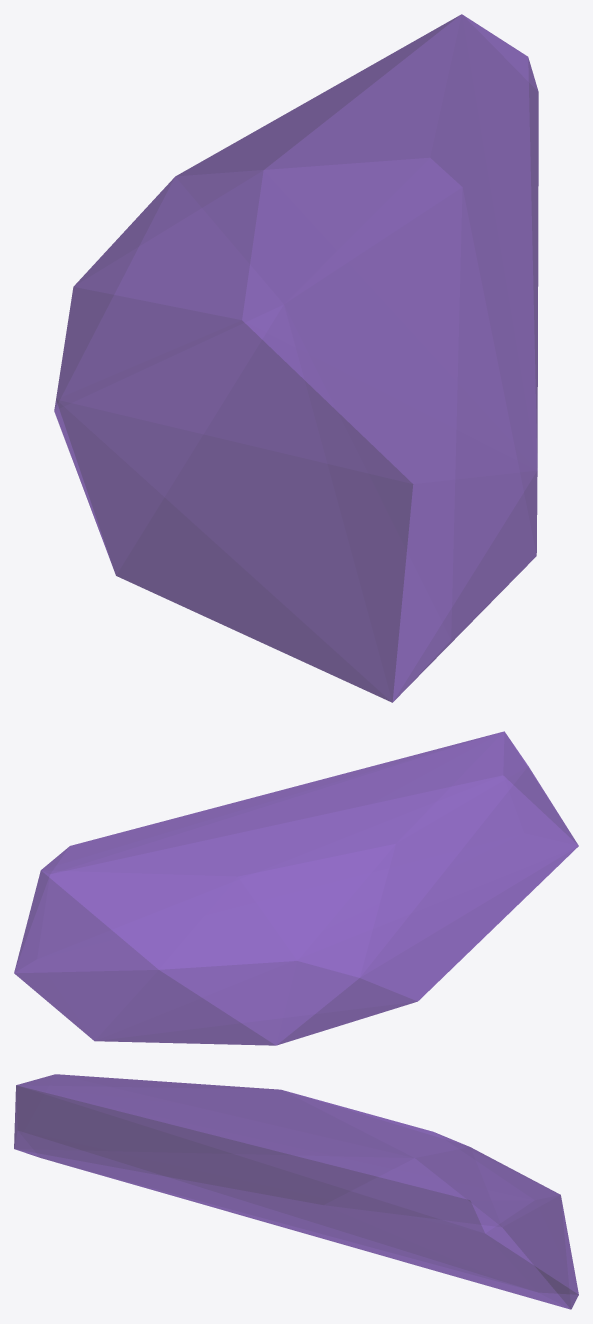
The picture shows the model from 3 angles, top to bottom: view 1: azimuth 30°, elevation 25°; view 2: azimuth 150°, elevation 25°; view 3: azimuth 270°, elevation 25°; orthographic projection. The views are drawn at different scales.
Visible parts, largest first — view 1: Shape_IndexedFaceSet.114_Shape_IndexedFaceSet.9404; view 2: Shape_IndexedFaceSet.114_Shape_IndexedFaceSet.9404; view 3: Shape_IndexedFaceSet.114_Shape_IndexedFaceSet.9404.
Part boxes in pixels (bbox=[...]): Shape_IndexedFaceSet.114_Shape_IndexedFaceSet.9404: bbox=[54, 14, 538, 702]; Shape_IndexedFaceSet.114_Shape_IndexedFaceSet.9404: bbox=[14, 731, 578, 1045]; Shape_IndexedFaceSet.114_Shape_IndexedFaceSet.9404: bbox=[14, 1074, 578, 1309].
Bounding box in the file's own units: 0.1456 × 0.0684 × 0.2289.
